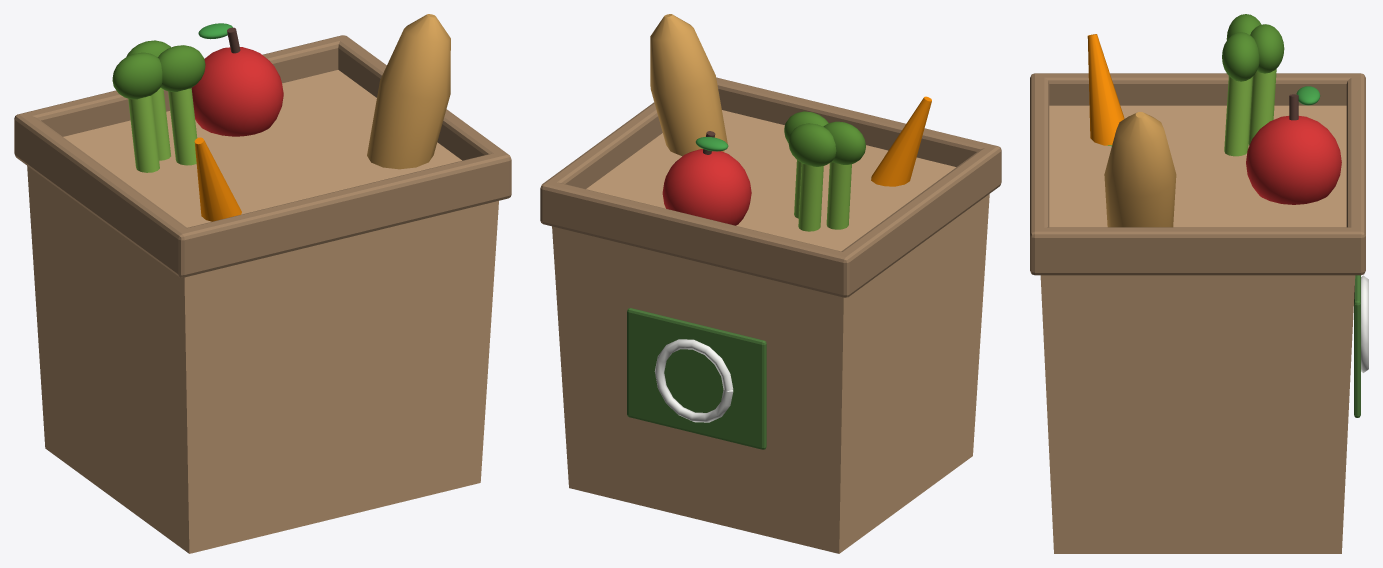
The model's file is grocery_bag.fbx.
3 views of the same model, side by side, from view 1: azimuth 30°, elevation 25°; view 2: azimuth 150°, elevation 25°; view 3: azimuth 270°, elevation 25° (orthographic). The views are drawn at different scales.
Parts seen in each view (by area): view 1: Grocery Bag; view 2: Grocery Bag; view 3: Grocery Bag.
Boxes of the visible parts, x1,y1,x2,y2 form: Grocery Bag: [14, 14, 511, 553]; Grocery Bag: [540, 14, 1001, 553]; Grocery Bag: [1030, 14, 1368, 553].
Bounding box in the file's own units: 0.8 × 1.01 × 0.7064.
